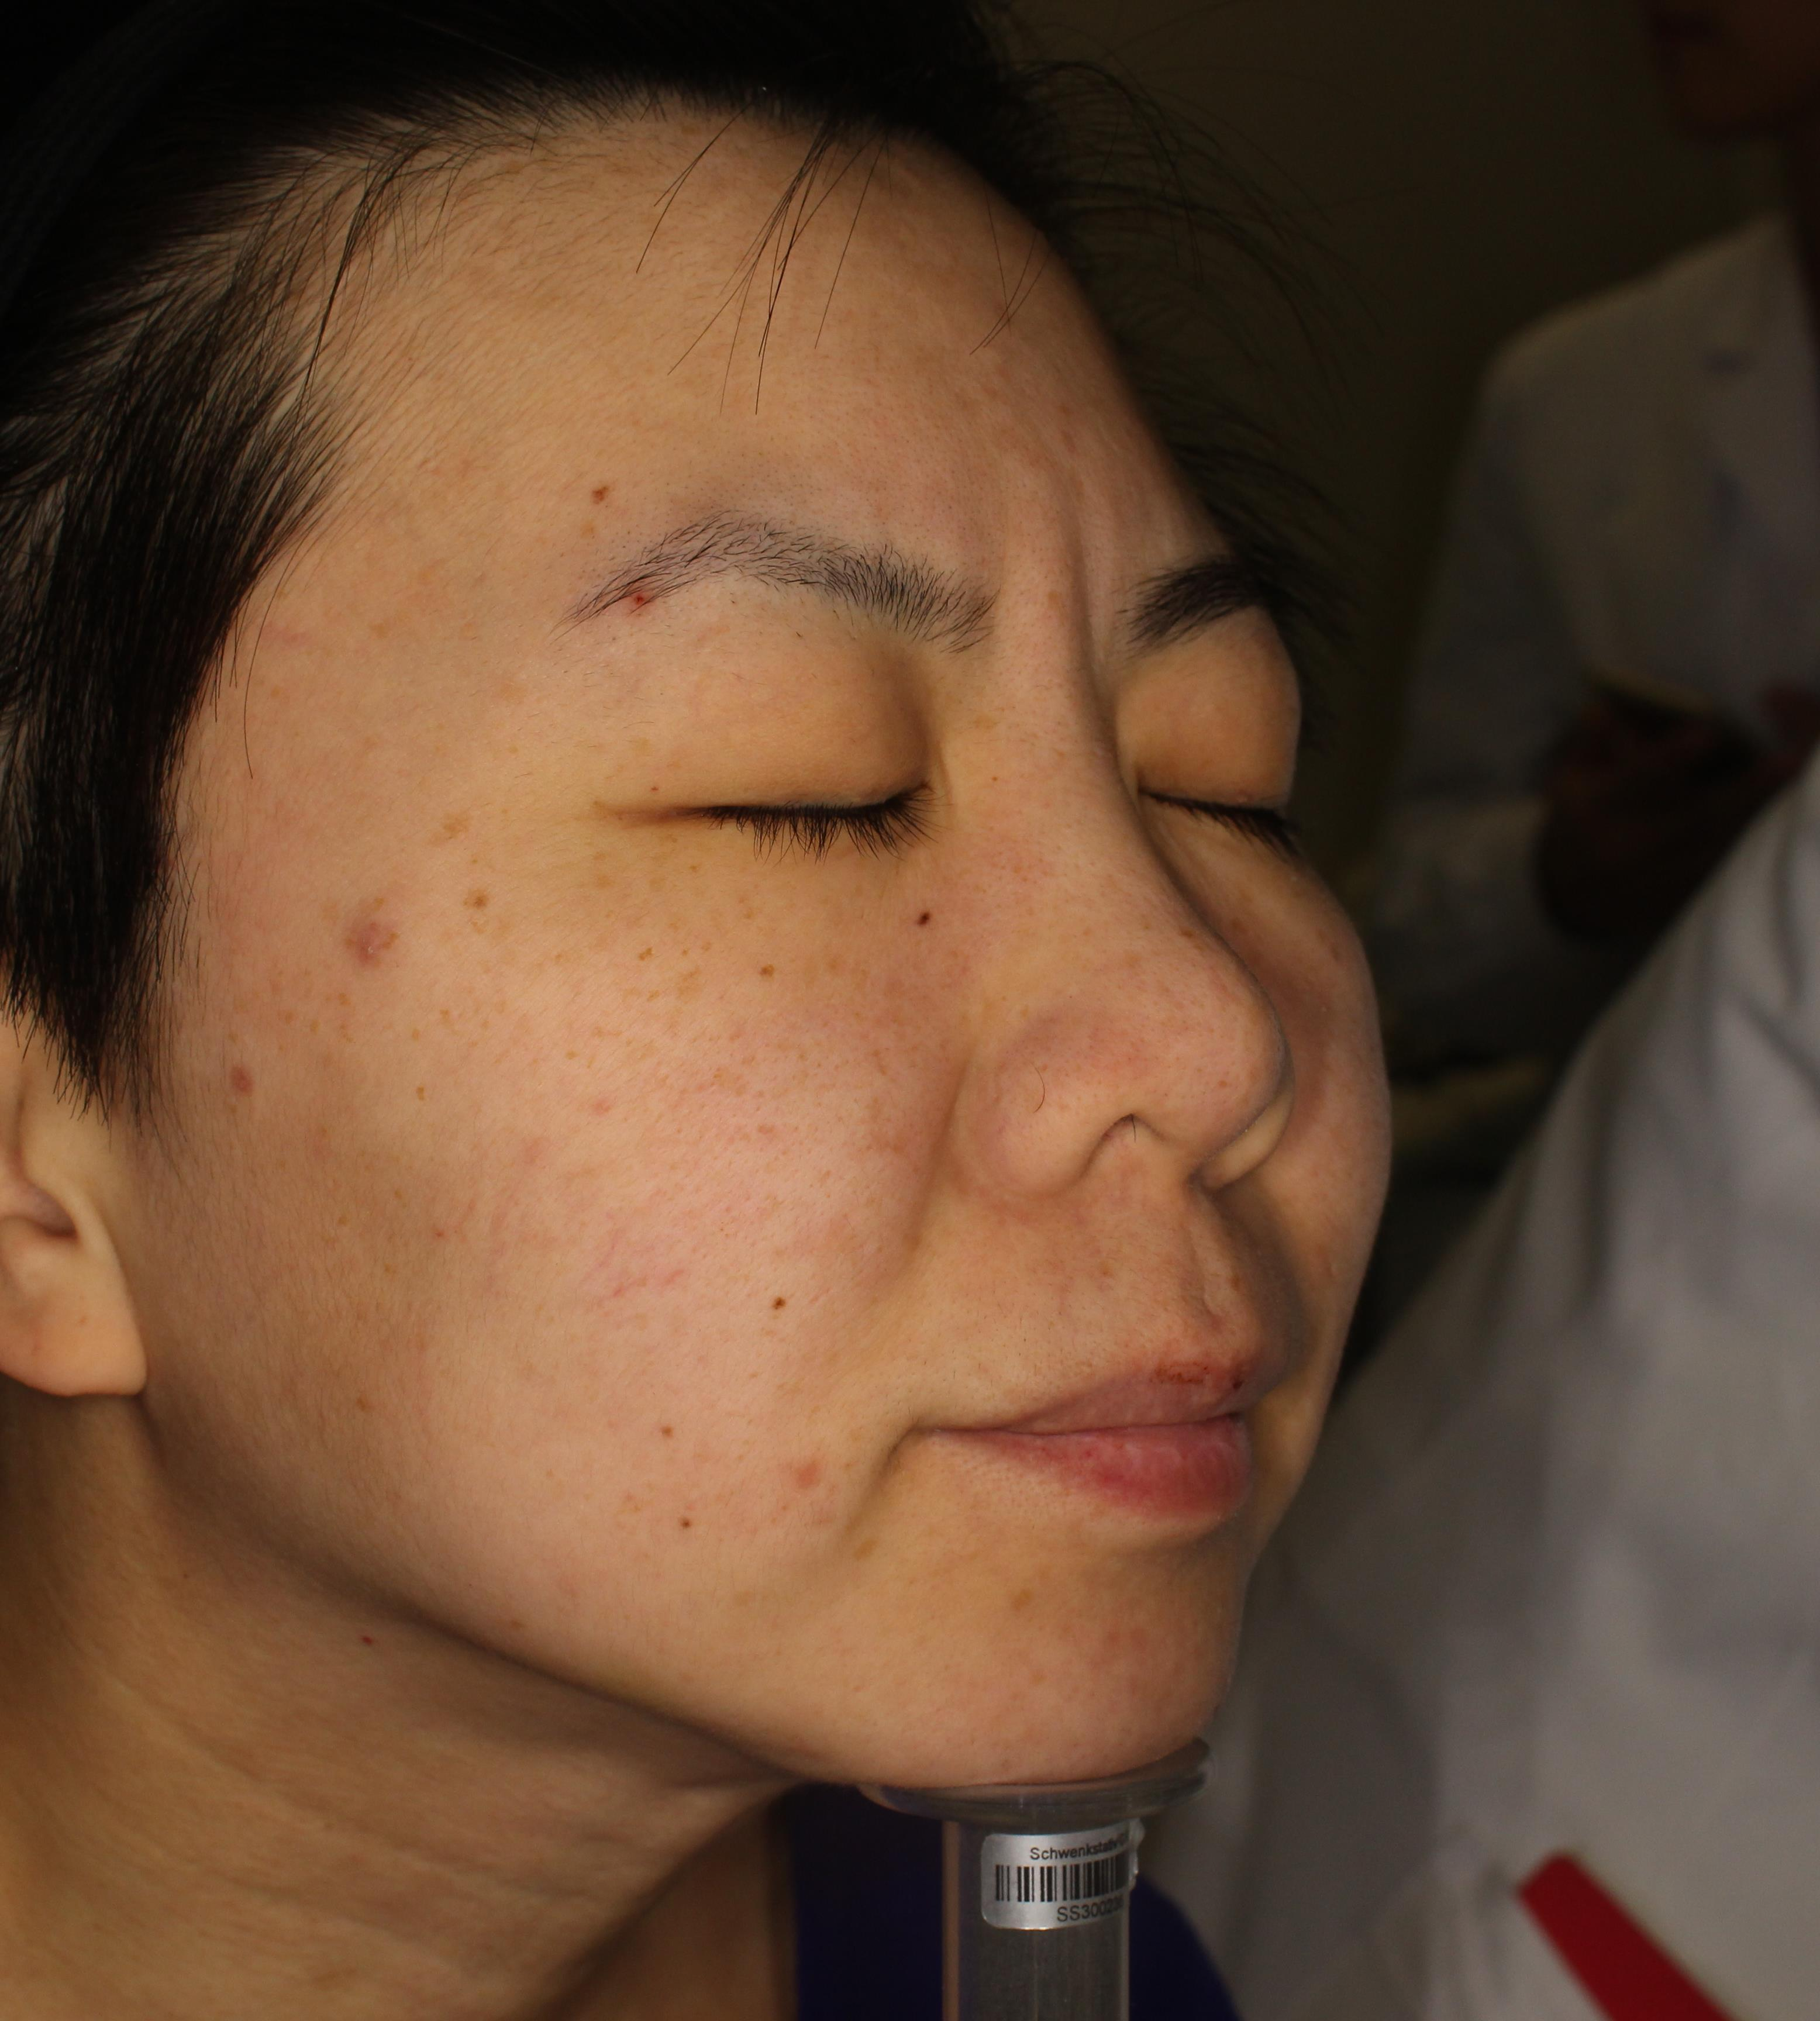fore: (337, 908, 422, 994)
